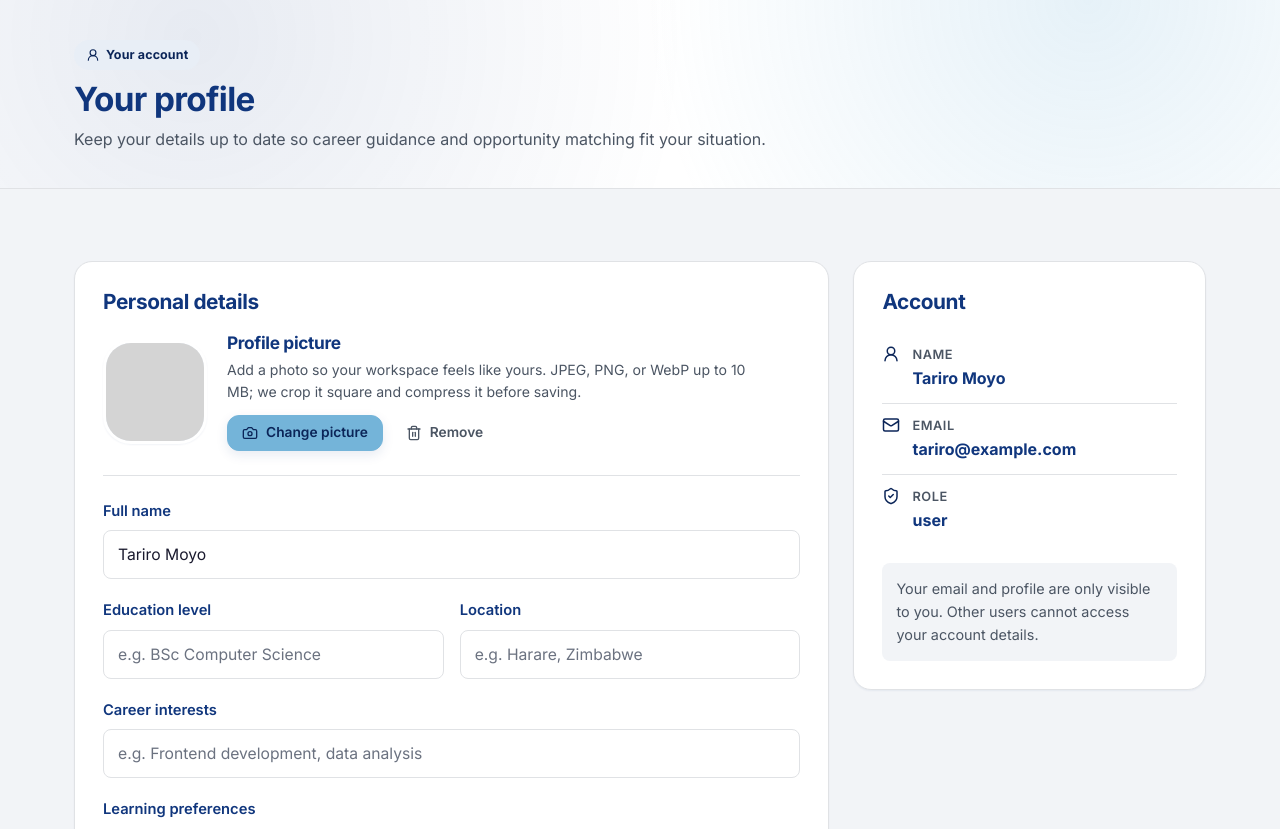
Scenario: removes an existing profile picture
The width and height of the screenshot is (1280, 829).
Click the button "Remove": (444, 432) [391,414,498,450]
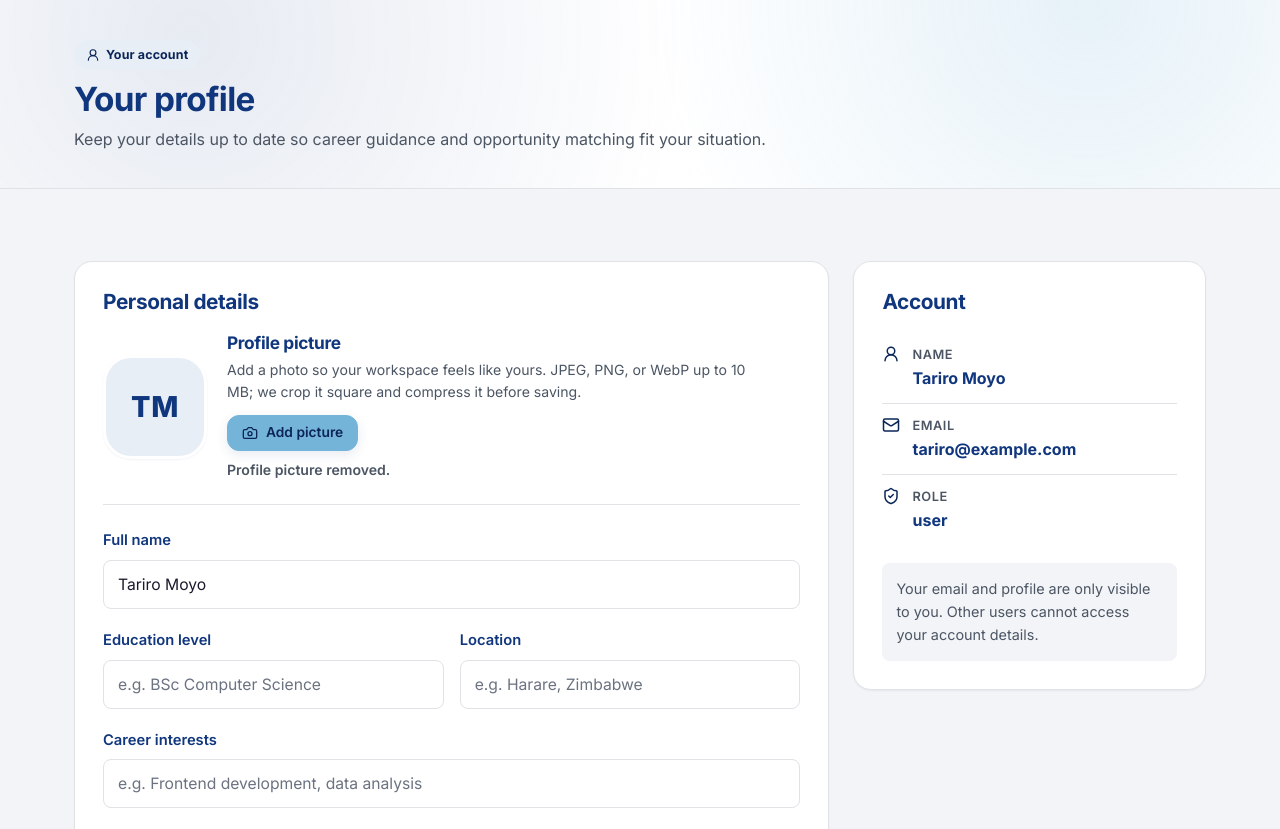
Expected: the text "Profile picture removed." is shown, [227,460,390,478]
Expected: the text "TM" is shown, [131,384,179,430]
